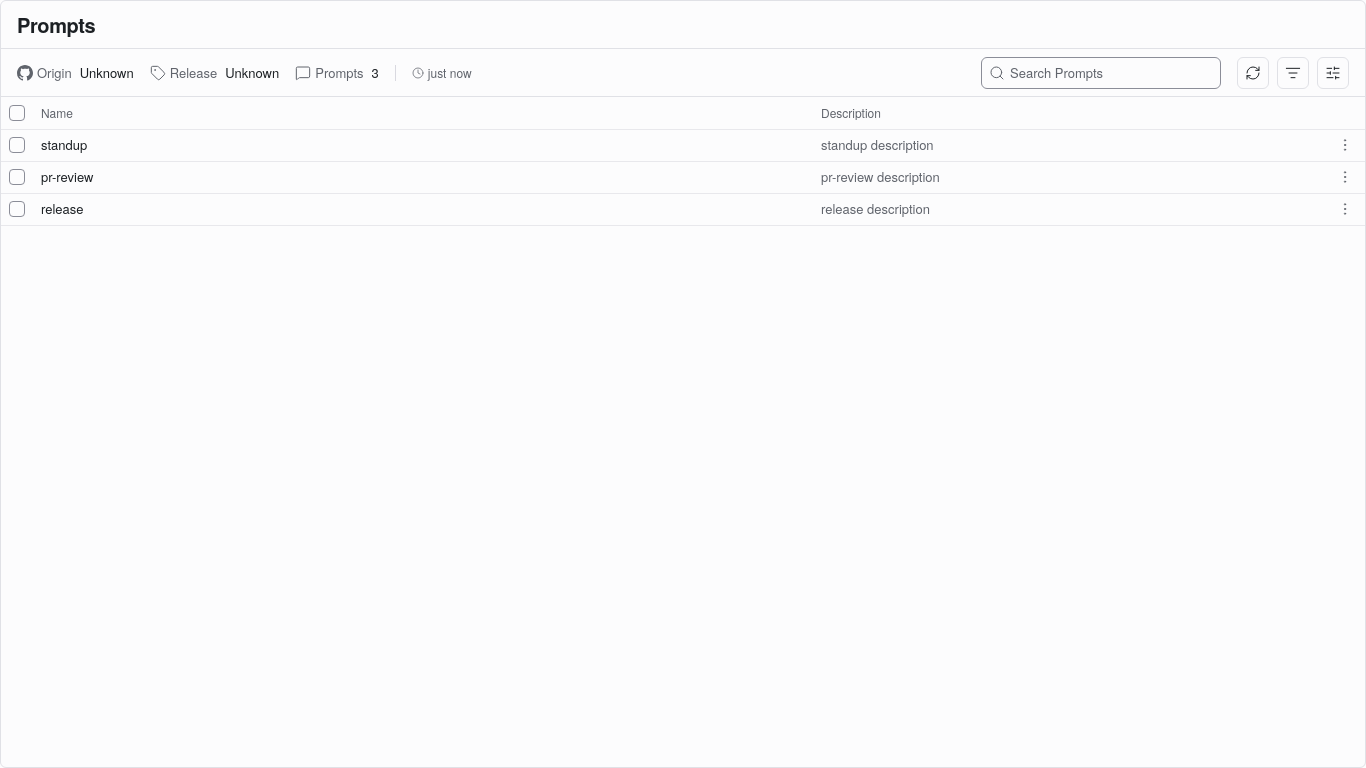
Test: Set category on Prompts › the selection bar › sets one category on every selected prompt, says so in a toast and clears the selection
Click the checkbox named "Select standup".
click(17, 145)  # box [9, 137, 25, 153]
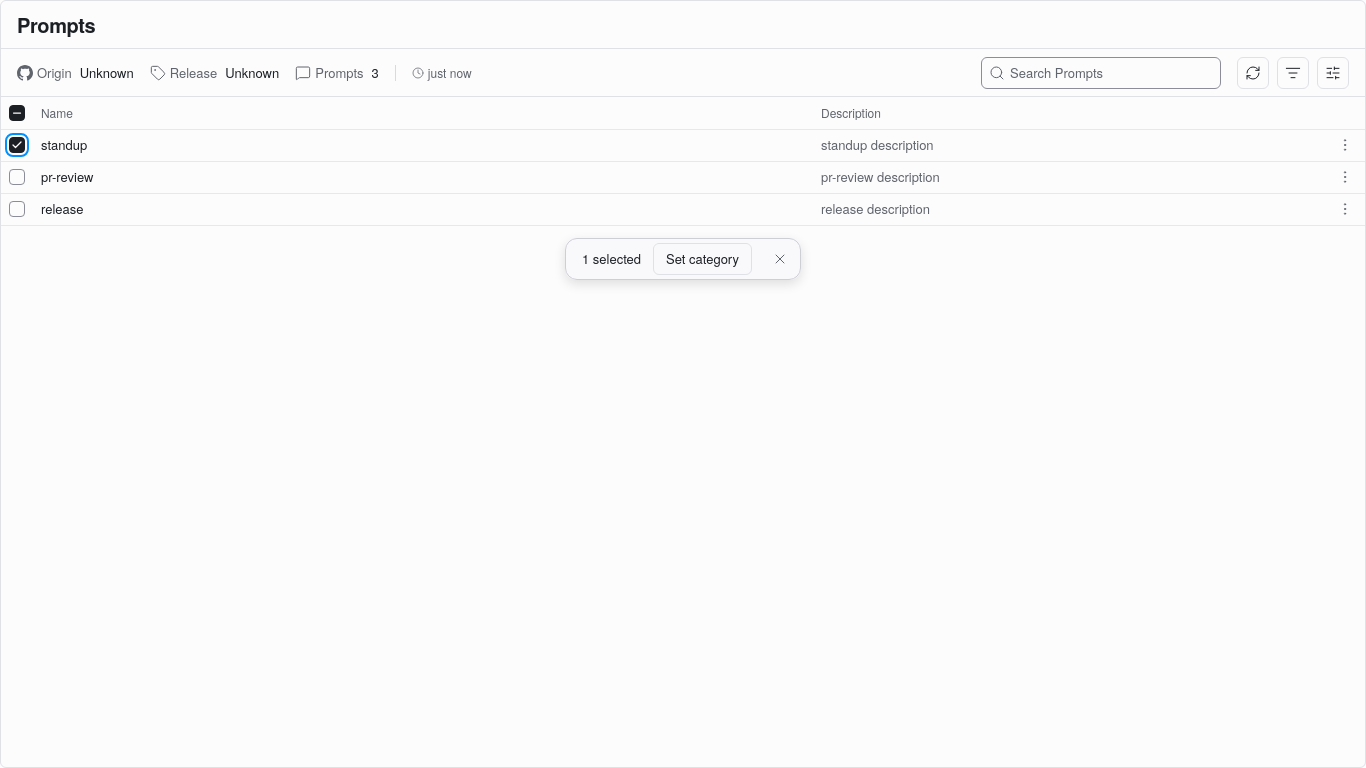
Click the checkbox named "Select pr-review".
click(17, 177)  # box [9, 169, 25, 185]
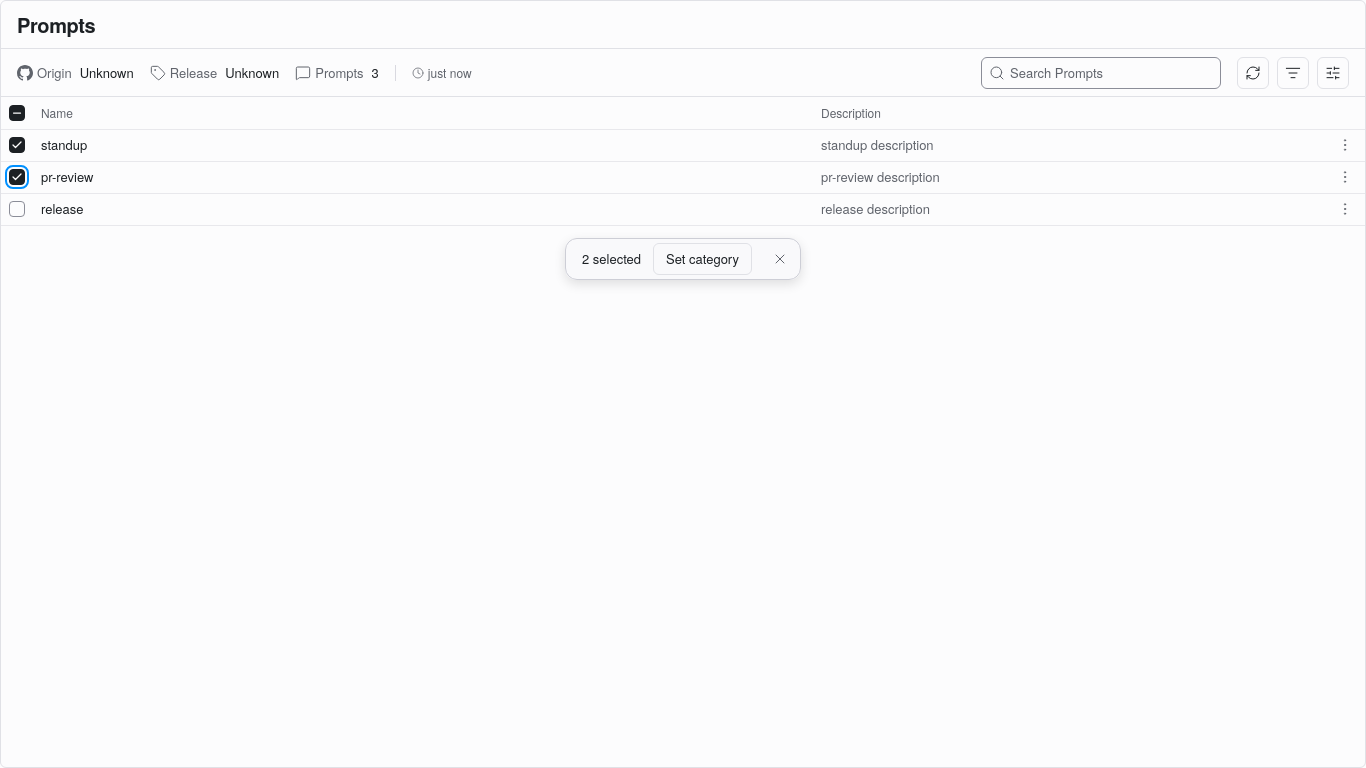
Click the button "Set category".
click(702, 258)  # box [653, 242, 752, 274]
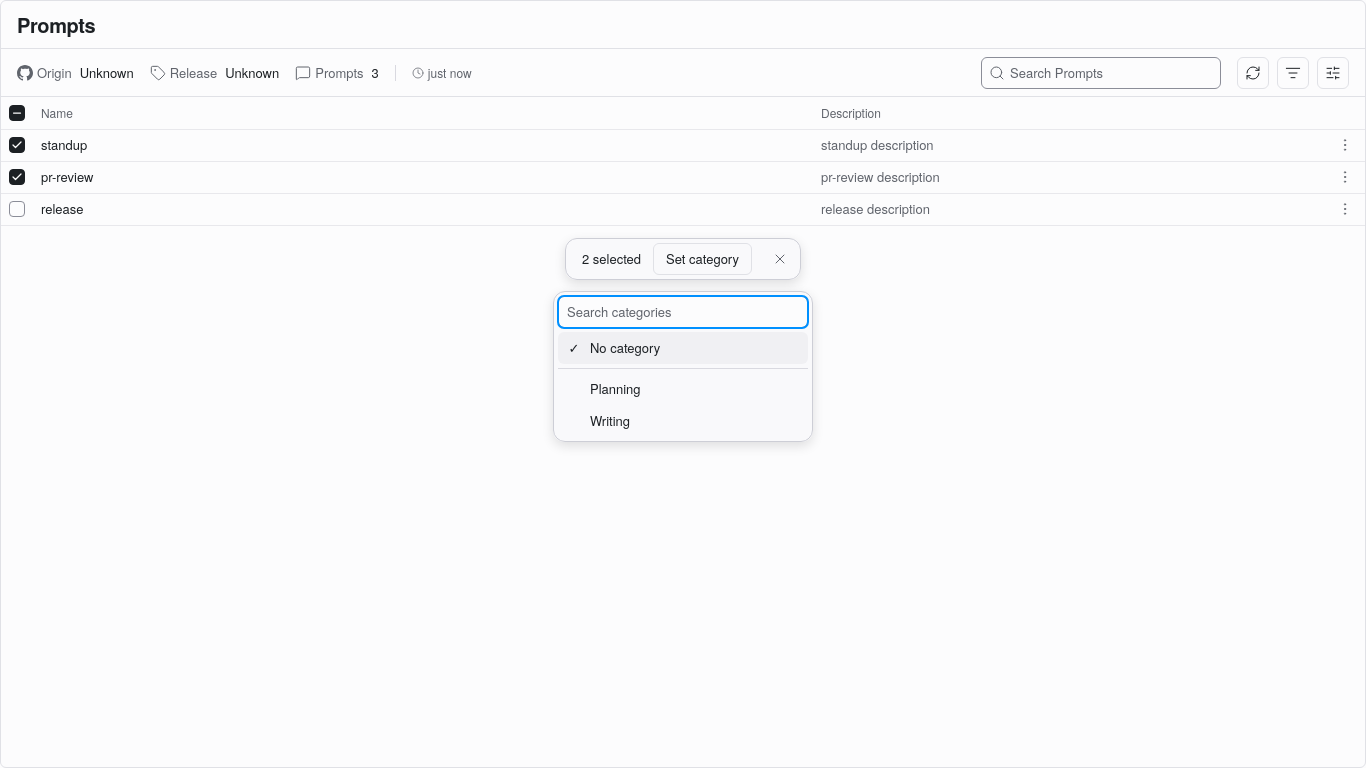
Click the option "Writing".
click(610, 420)  # box [590, 410, 630, 430]
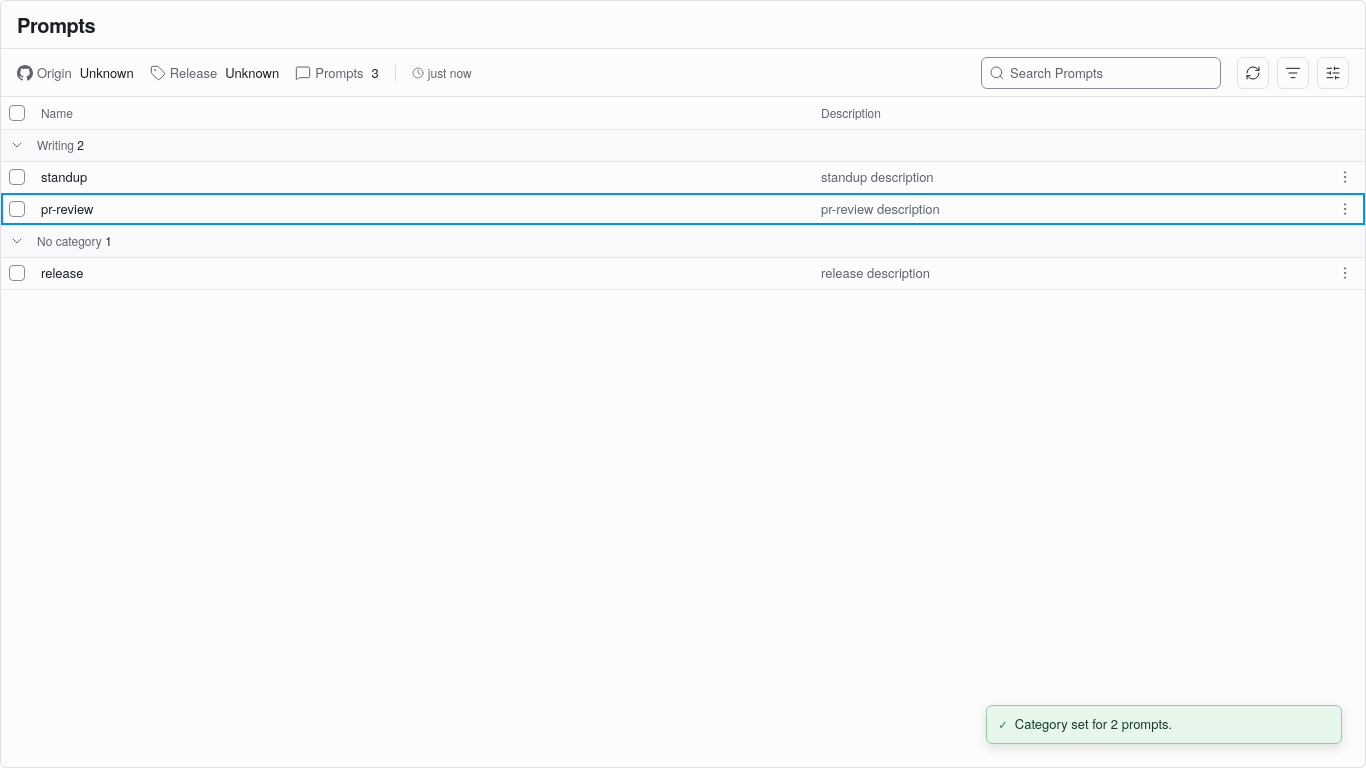
expect the text "Category set for 2 prompts." is shown: met, box [1015, 714, 1172, 733]
expect the text "2 selected" is gone: met
expect the checkbox named "Select standup" is not checked: met, box [9, 169, 25, 185]
